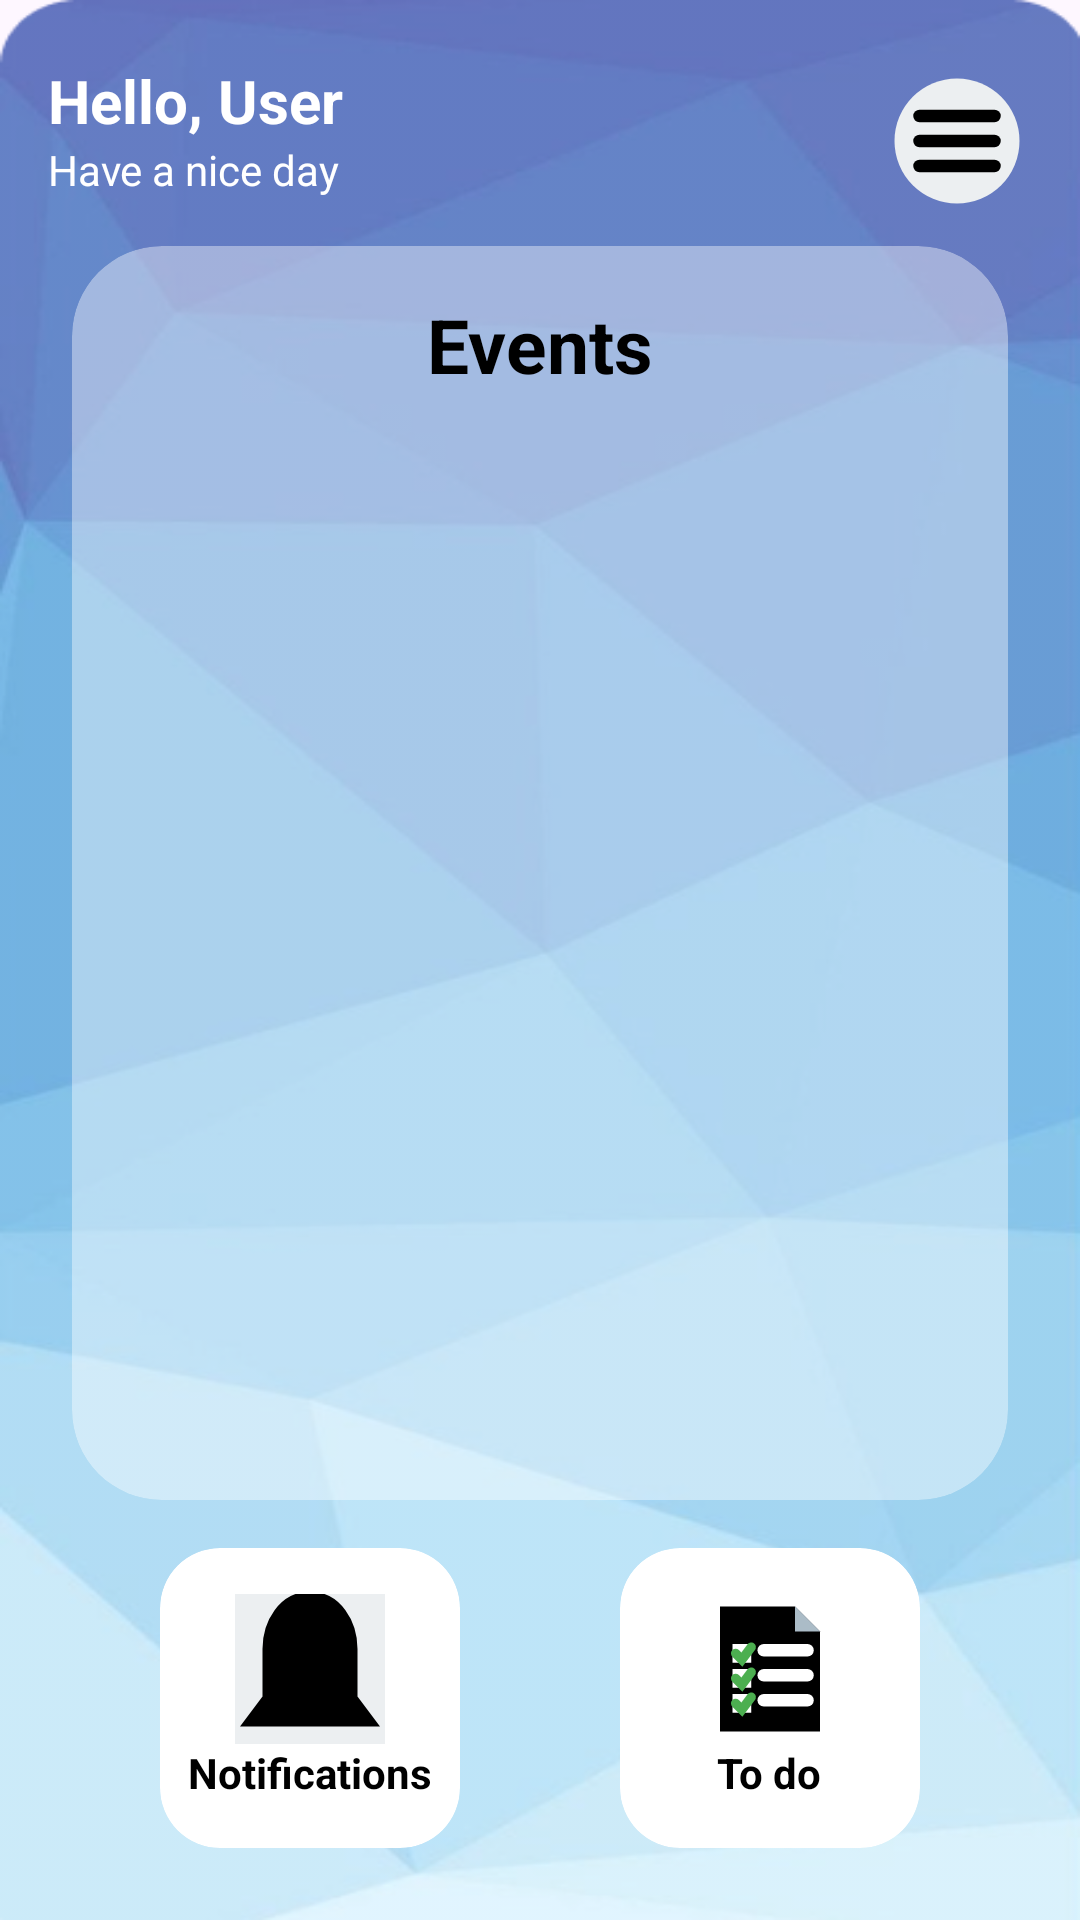

Point at icon controls on the screen. Image size 1080 x 1920, points as (x=x, y=y).
bell: (x=310, y=1660)
hamburger: (x=957, y=141)
